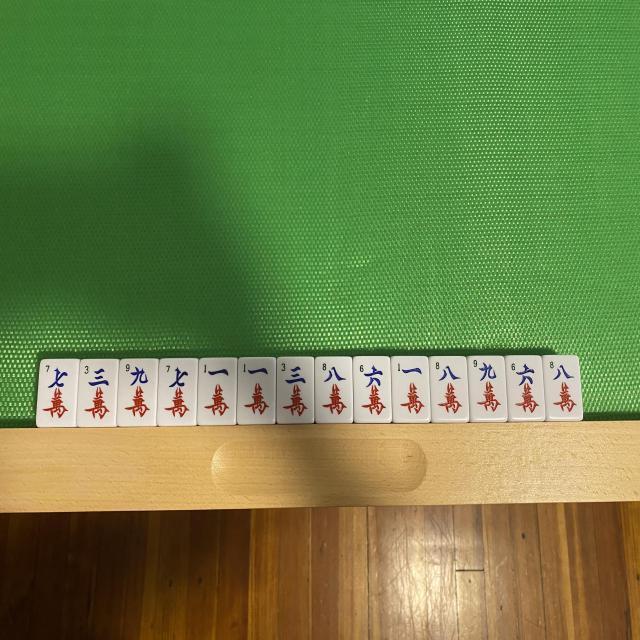sc1: (392, 355, 430, 424), (199, 358, 237, 424), (240, 358, 276, 422)
sc3: (78, 360, 114, 426), (278, 358, 314, 422)
sc5: (120, 359, 158, 425)
sc6: (506, 357, 544, 420), (356, 356, 390, 421)
sc7: (41, 359, 78, 426), (162, 360, 198, 424)
sc8: (431, 356, 468, 423), (546, 357, 582, 420), (318, 359, 352, 422)
sc9: (472, 358, 506, 420)
